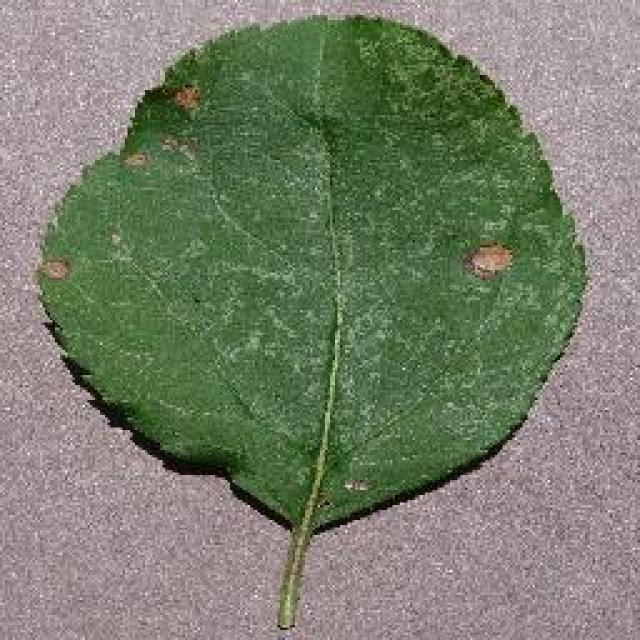Black_rot: (35, 10, 587, 630)
